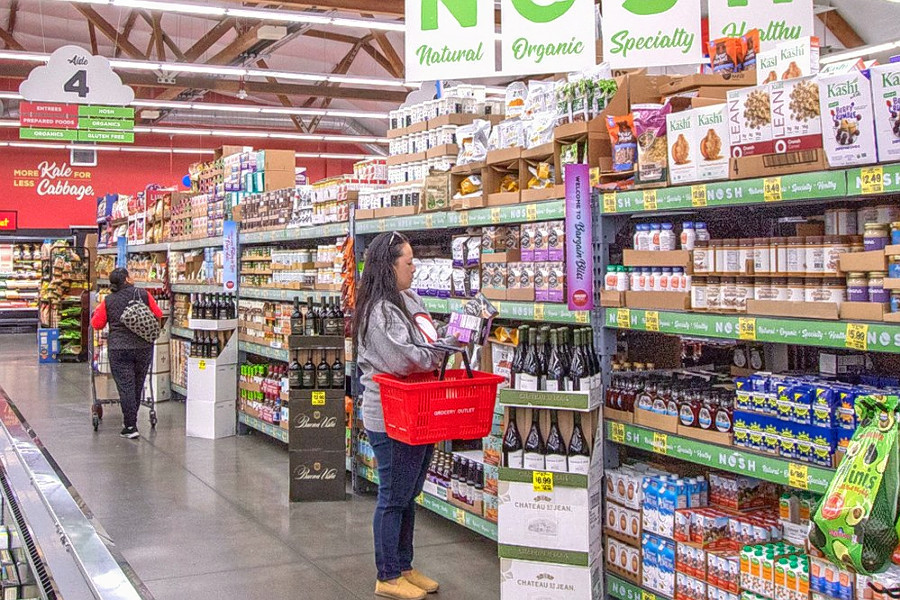Good: (91, 228, 447, 599)
